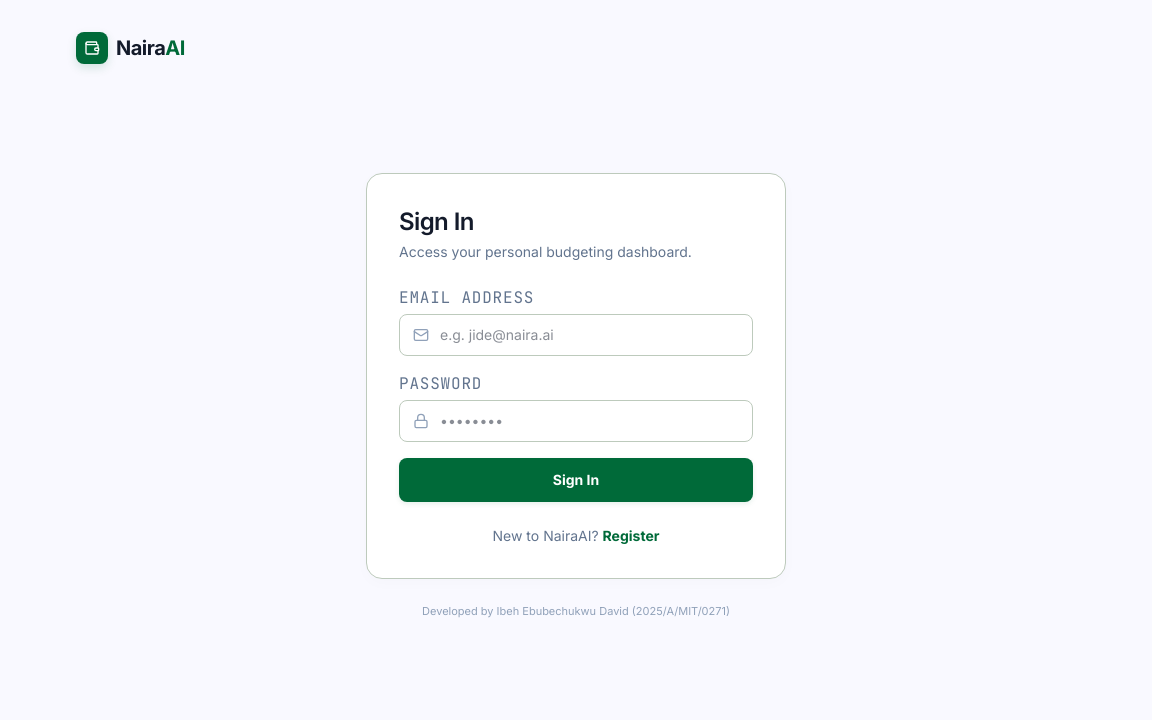
it: Auth › registers a new user and lands on the dashboard
The image size is (1152, 720).
Click the button "Register": (631, 536) [603,526,660,546]
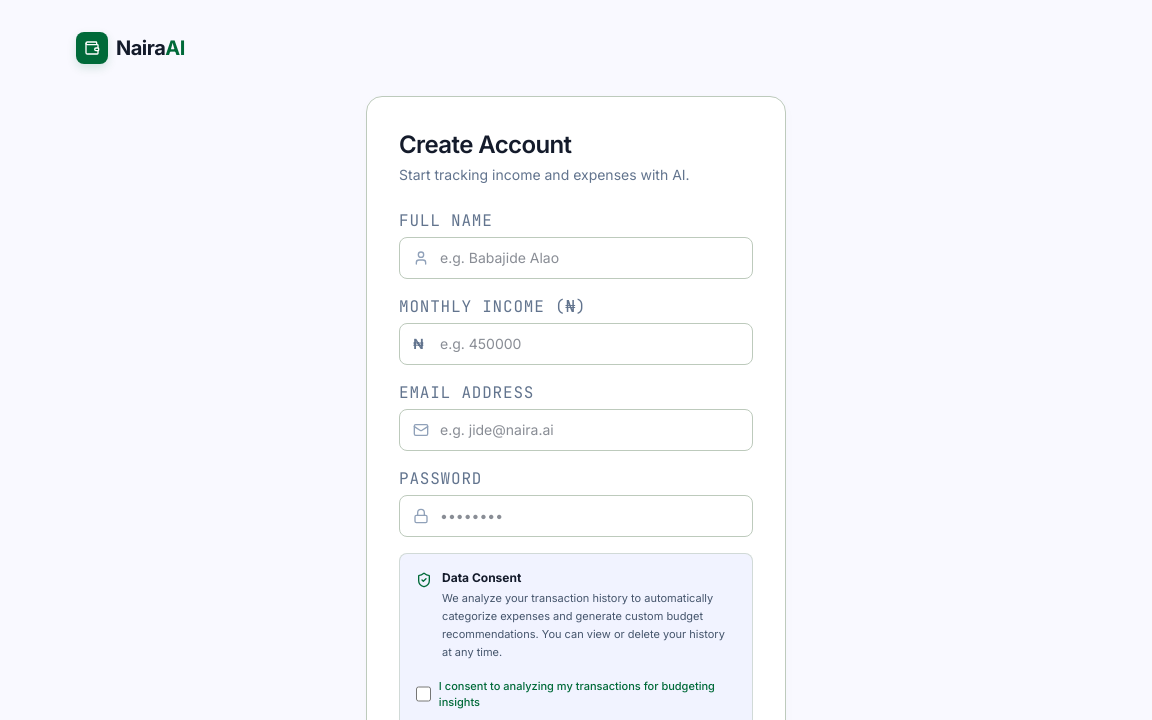
In the field with placeholder "e.g. Babajide Alao": (576, 258) [399,237,753,279], type "New Person"
In the number field with placeholder "e.g. 450000": (576, 344) [399,323,753,365], type "300000"
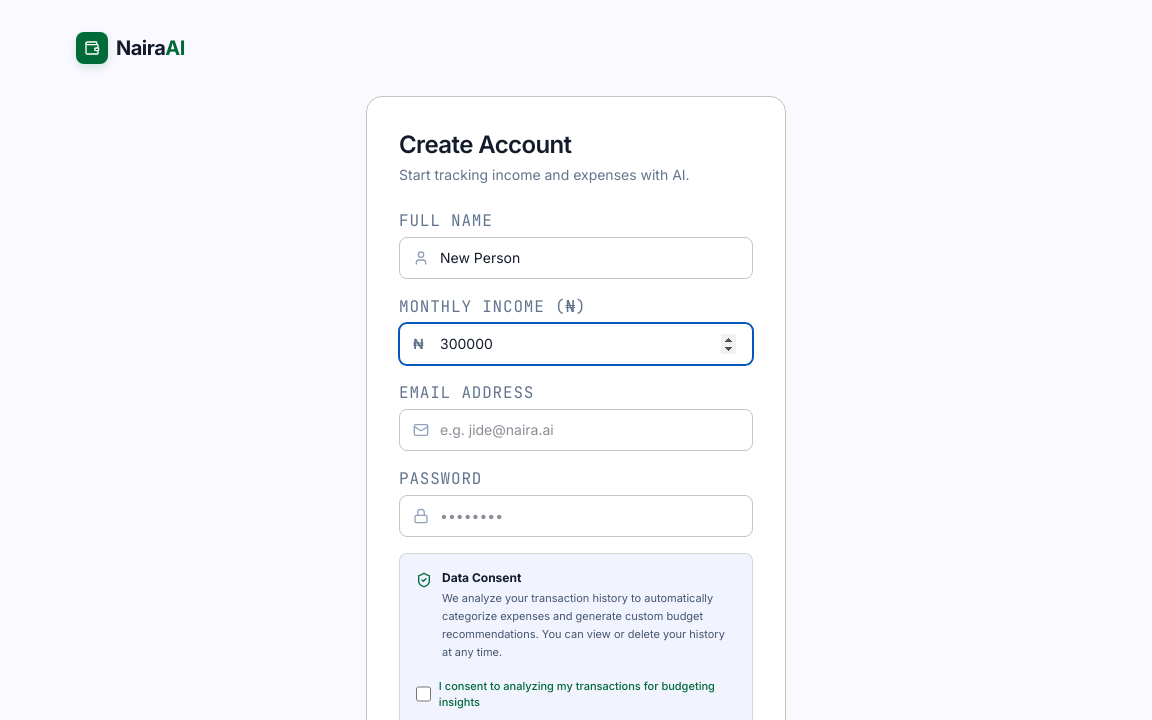
In the field with placeholder "e.g. jide@naira.ai": (576, 430) [399,409,753,451], type "new@naira.ai"
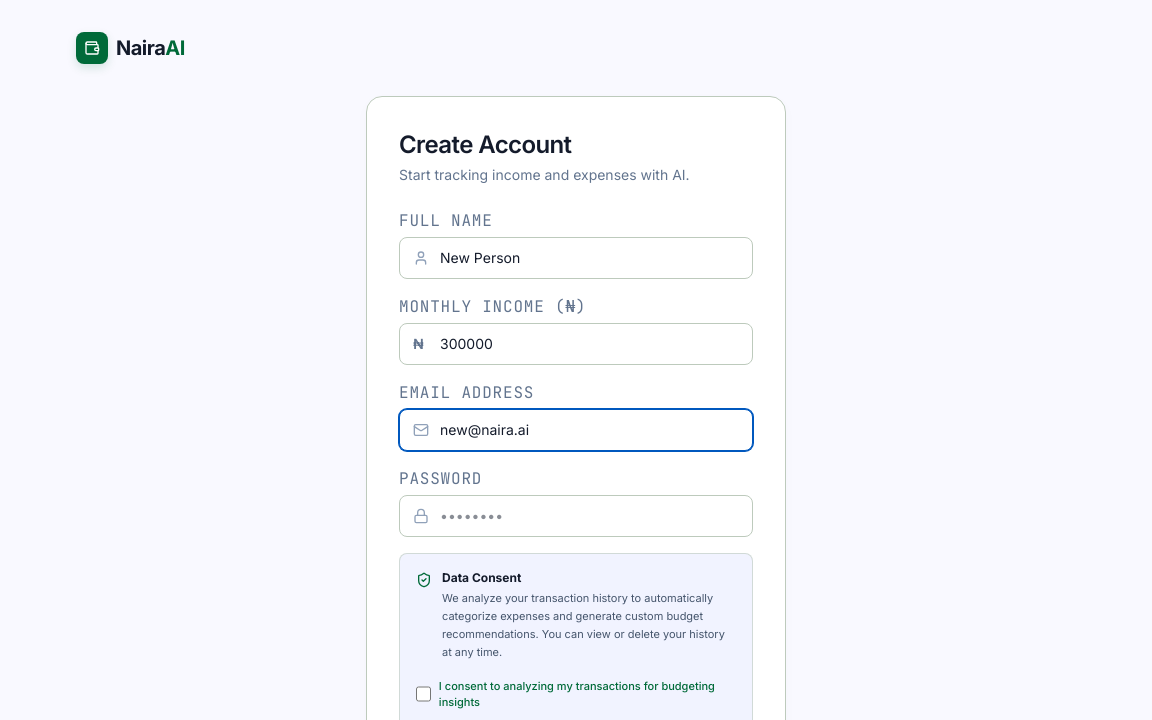
In the password field with placeholder "••••••••": (576, 516) [399,495,753,537], type "SuperSecret123!"
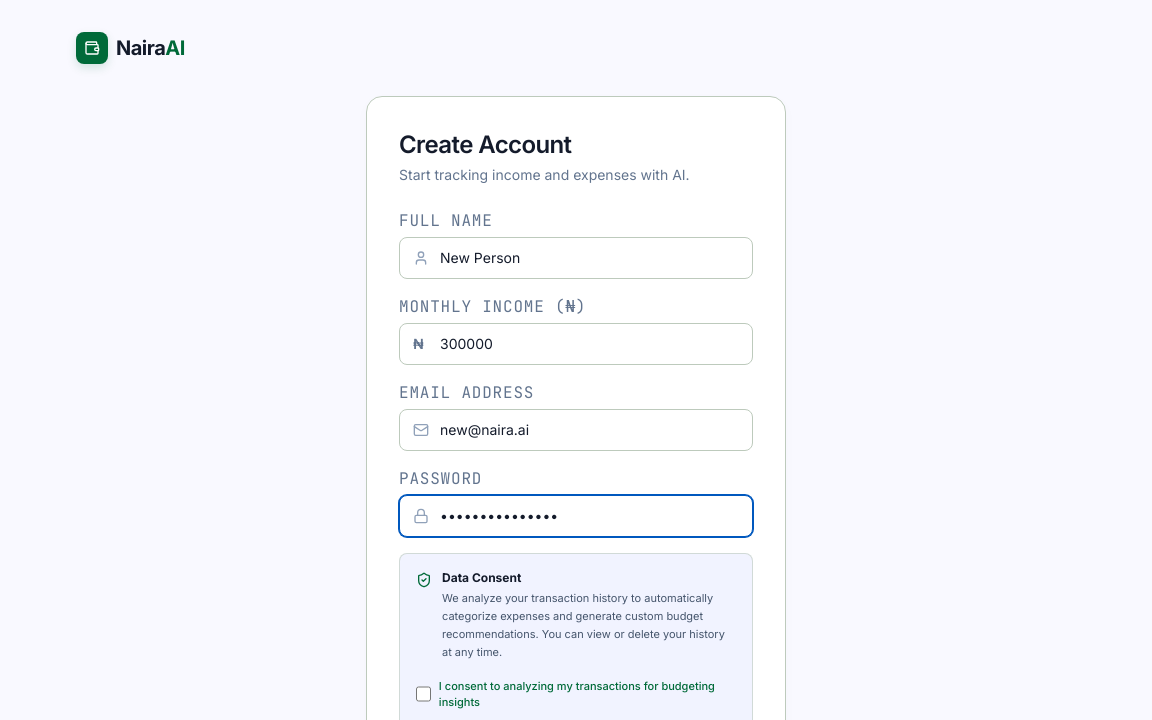
Click the checkbox labelled "I consent to analyzing my transactions": (423, 694) [416,686,431,702]
(page scrolled)
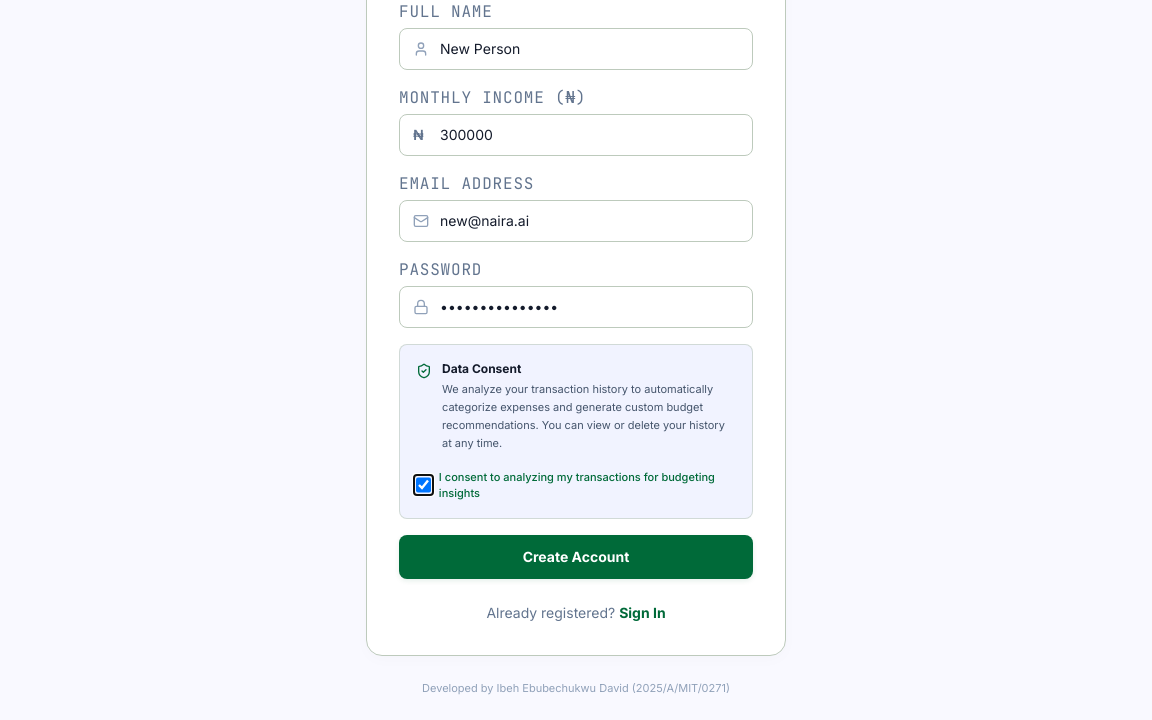
Click the button "Create Account": (576, 556) [399,534,753,578]
(page scrolled)
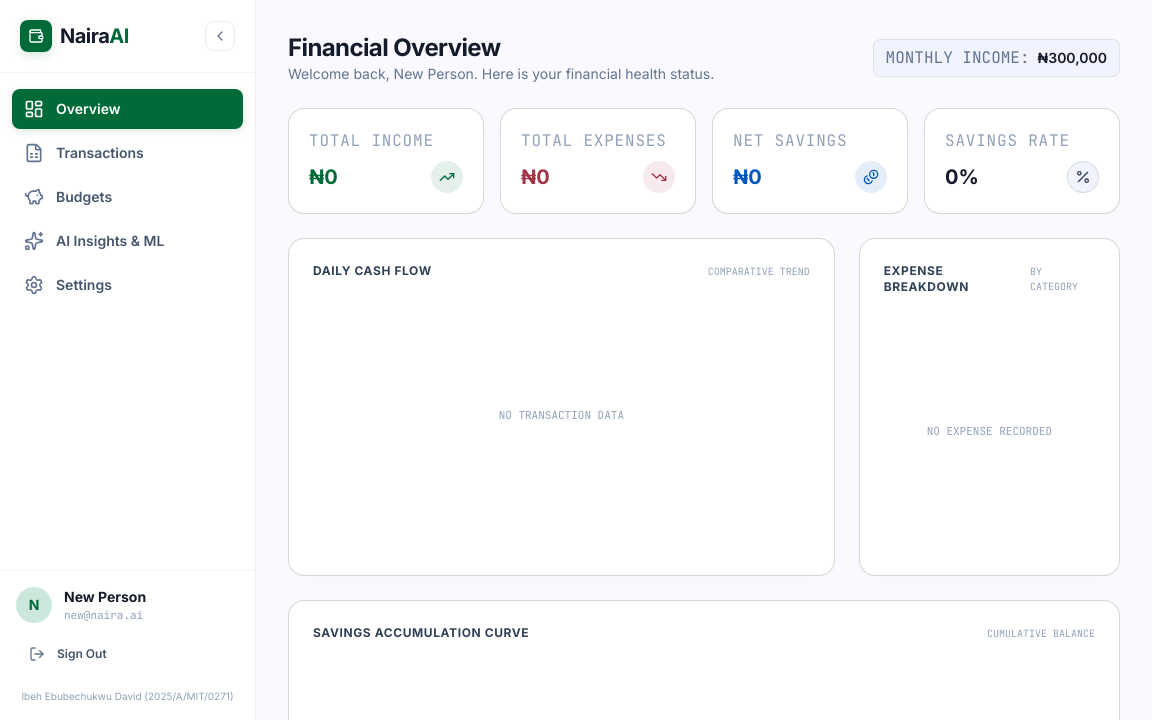
Result: the heading "Financial Overview" is shown at [288,33,500,62]
